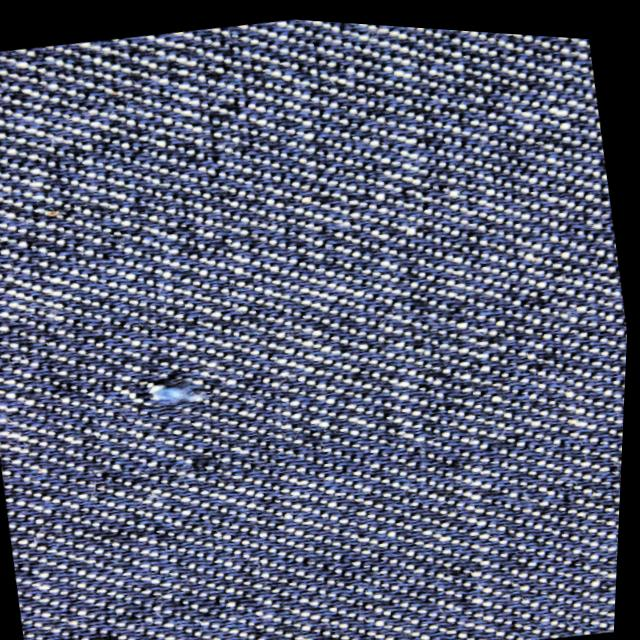Hole: (81, 343, 254, 437)
